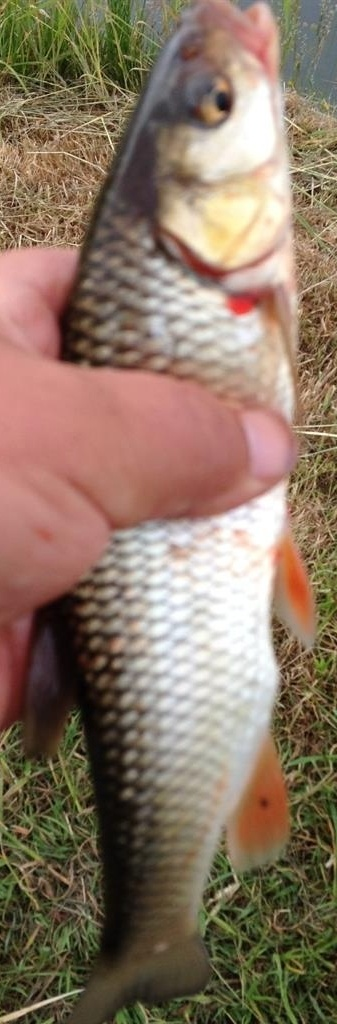Leuciscus cephalus: (20, 1, 317, 1024)
